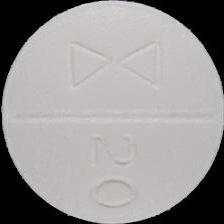68788-6403: (0, 0, 224, 224)
